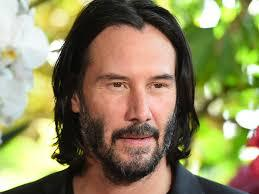Persons: (51, 1, 205, 186)
